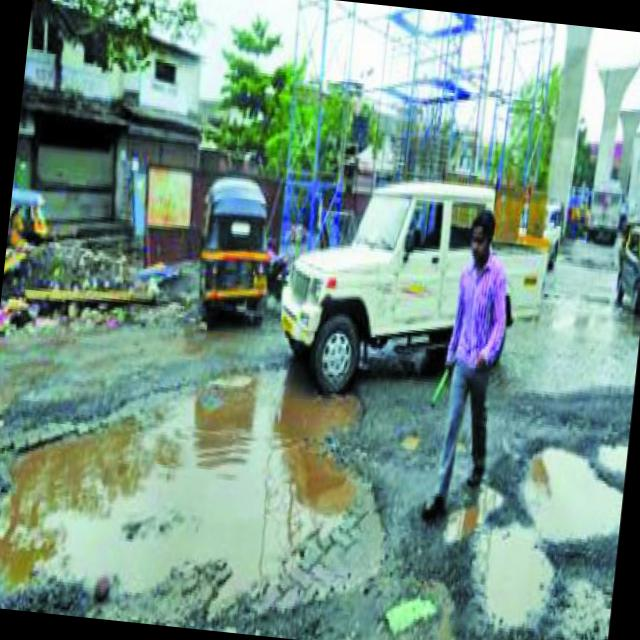Potholes: (0, 299, 382, 640), (424, 395, 632, 640), (397, 411, 429, 467)
